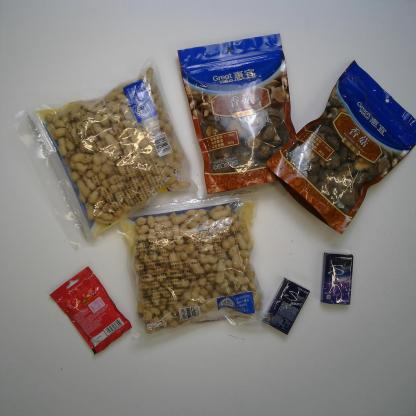Candy: (49, 266, 132, 355)
Dried Food: (15, 56, 199, 255), (115, 172, 272, 342), (265, 59, 416, 235), (178, 33, 298, 195)
Gum: (262, 278, 310, 335), (320, 251, 353, 305)
